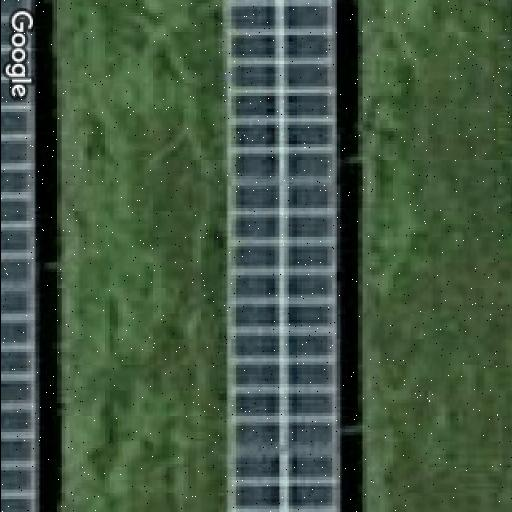solar-panel: (219, 0, 341, 512), (0, 0, 42, 512)
